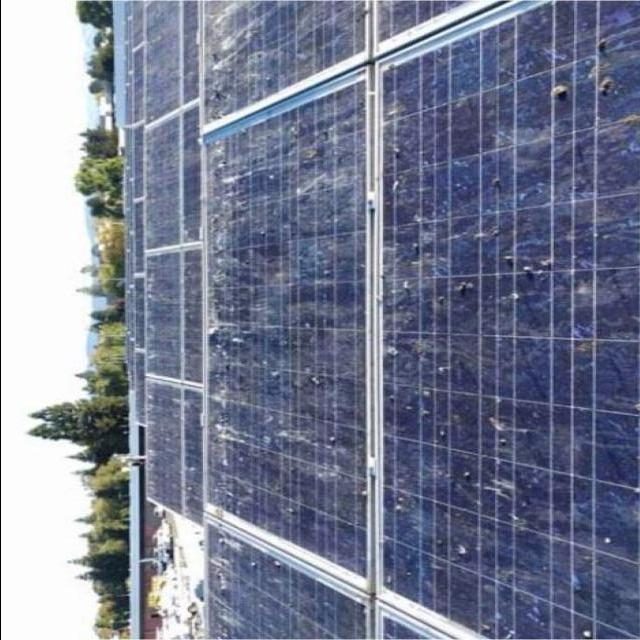soiled: (380, 0, 640, 639), (209, 0, 374, 639), (142, 0, 205, 530)
